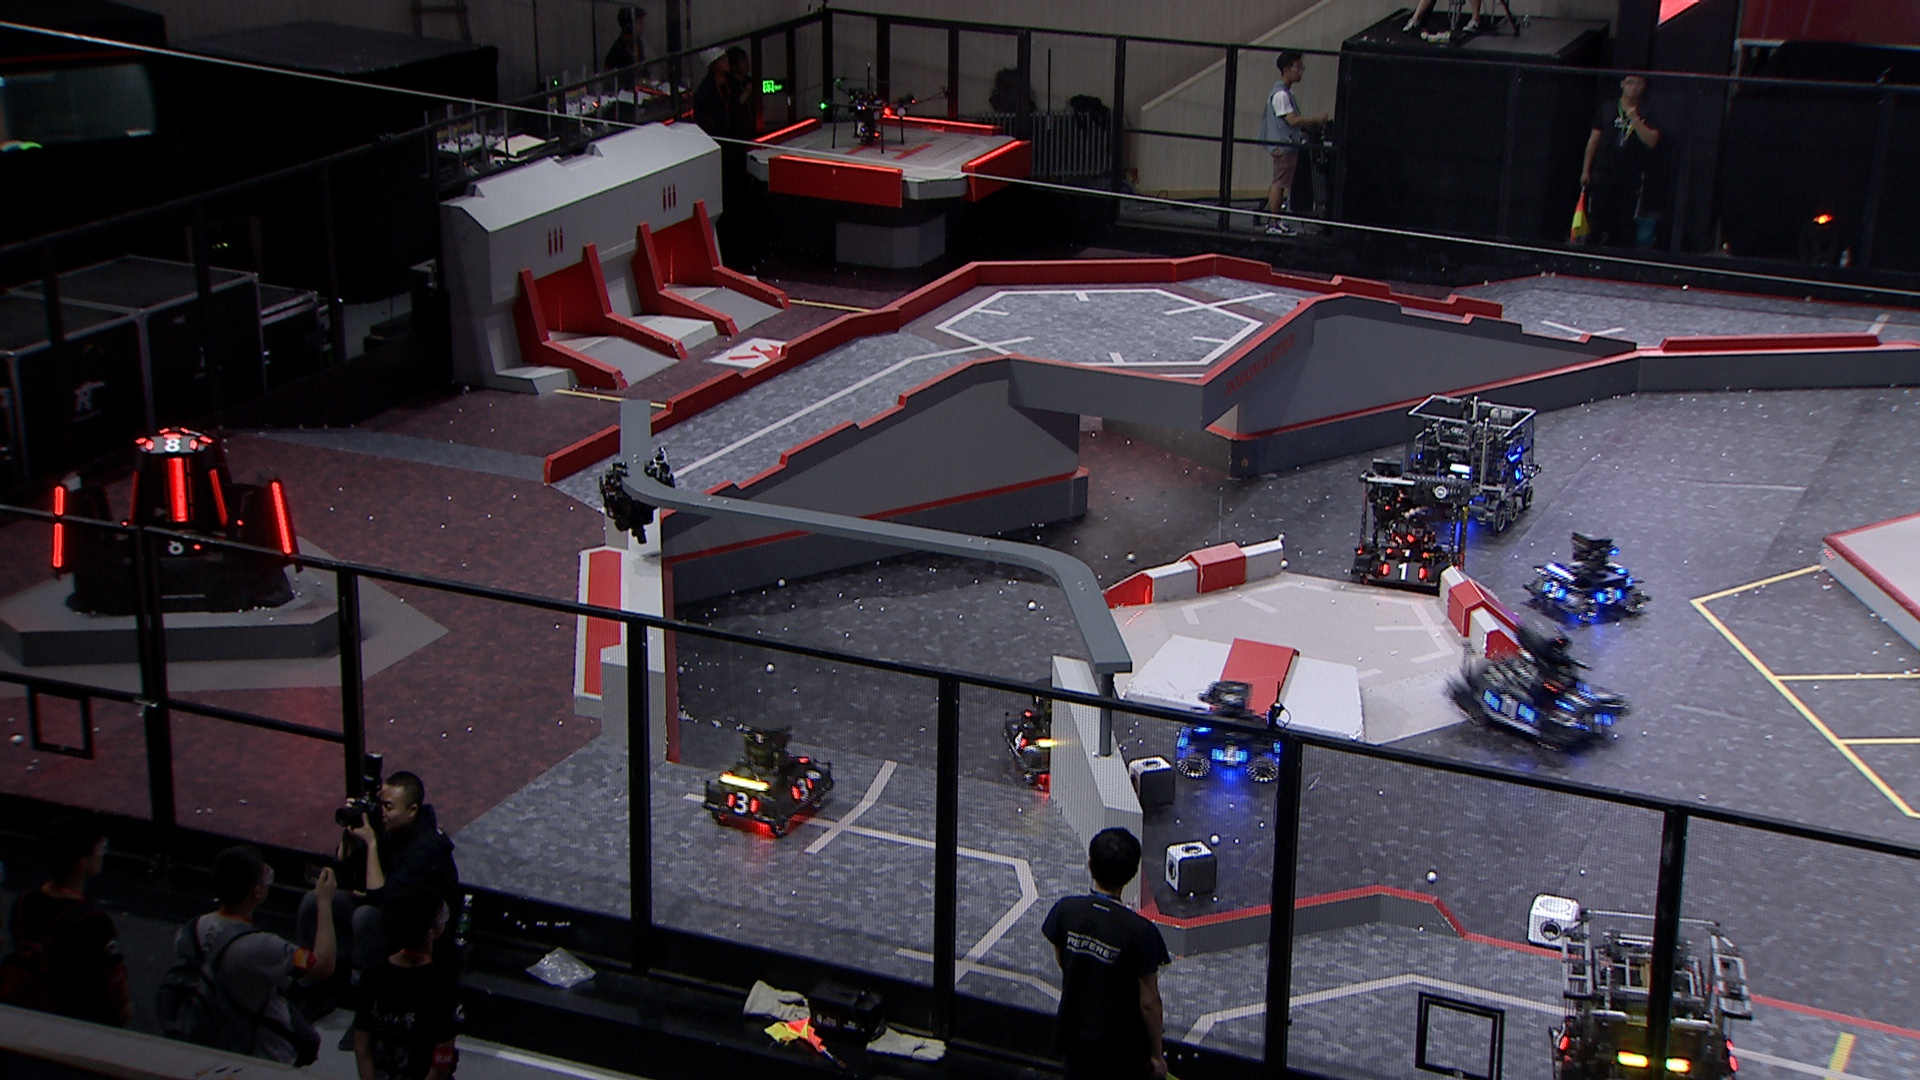armor: (167, 456, 199, 524), (269, 481, 295, 556), (206, 467, 231, 527), (1487, 694, 1539, 723), (50, 484, 65, 570), (142, 434, 202, 454), (1381, 562, 1429, 585), (123, 469, 141, 531), (721, 793, 760, 822), (1578, 707, 1613, 736), (1211, 742, 1251, 766), (161, 537, 202, 556), (1385, 543, 1429, 560), (789, 777, 816, 804), (1556, 688, 1593, 708), (1593, 585, 1625, 607), (1542, 579, 1567, 603), (1555, 1022, 1572, 1054), (1011, 728, 1033, 752), (1513, 462, 1527, 480)
base: (44, 419, 309, 618)
car: (1539, 907, 1756, 1080), (1443, 621, 1636, 760), (1403, 392, 1542, 537), (1348, 458, 1468, 597), (698, 717, 840, 835), (1171, 678, 1294, 787), (1520, 527, 1647, 624), (997, 676, 1112, 778)
watcher: (597, 446, 680, 546)
